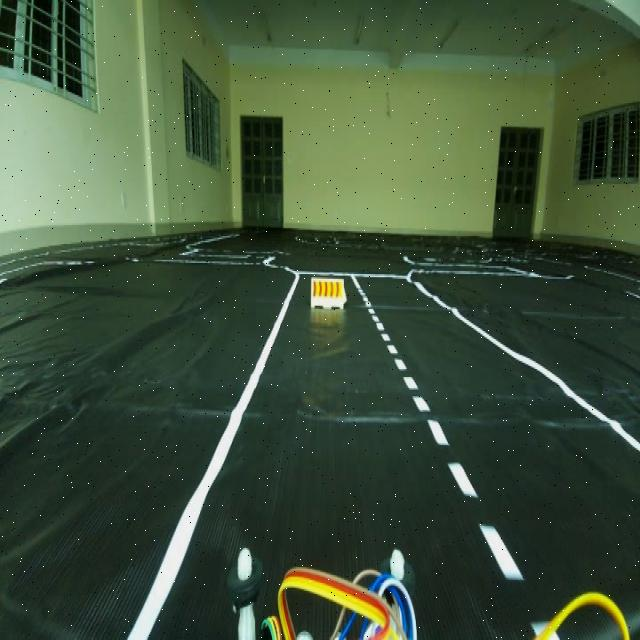roadblock: (308, 274, 350, 323)
